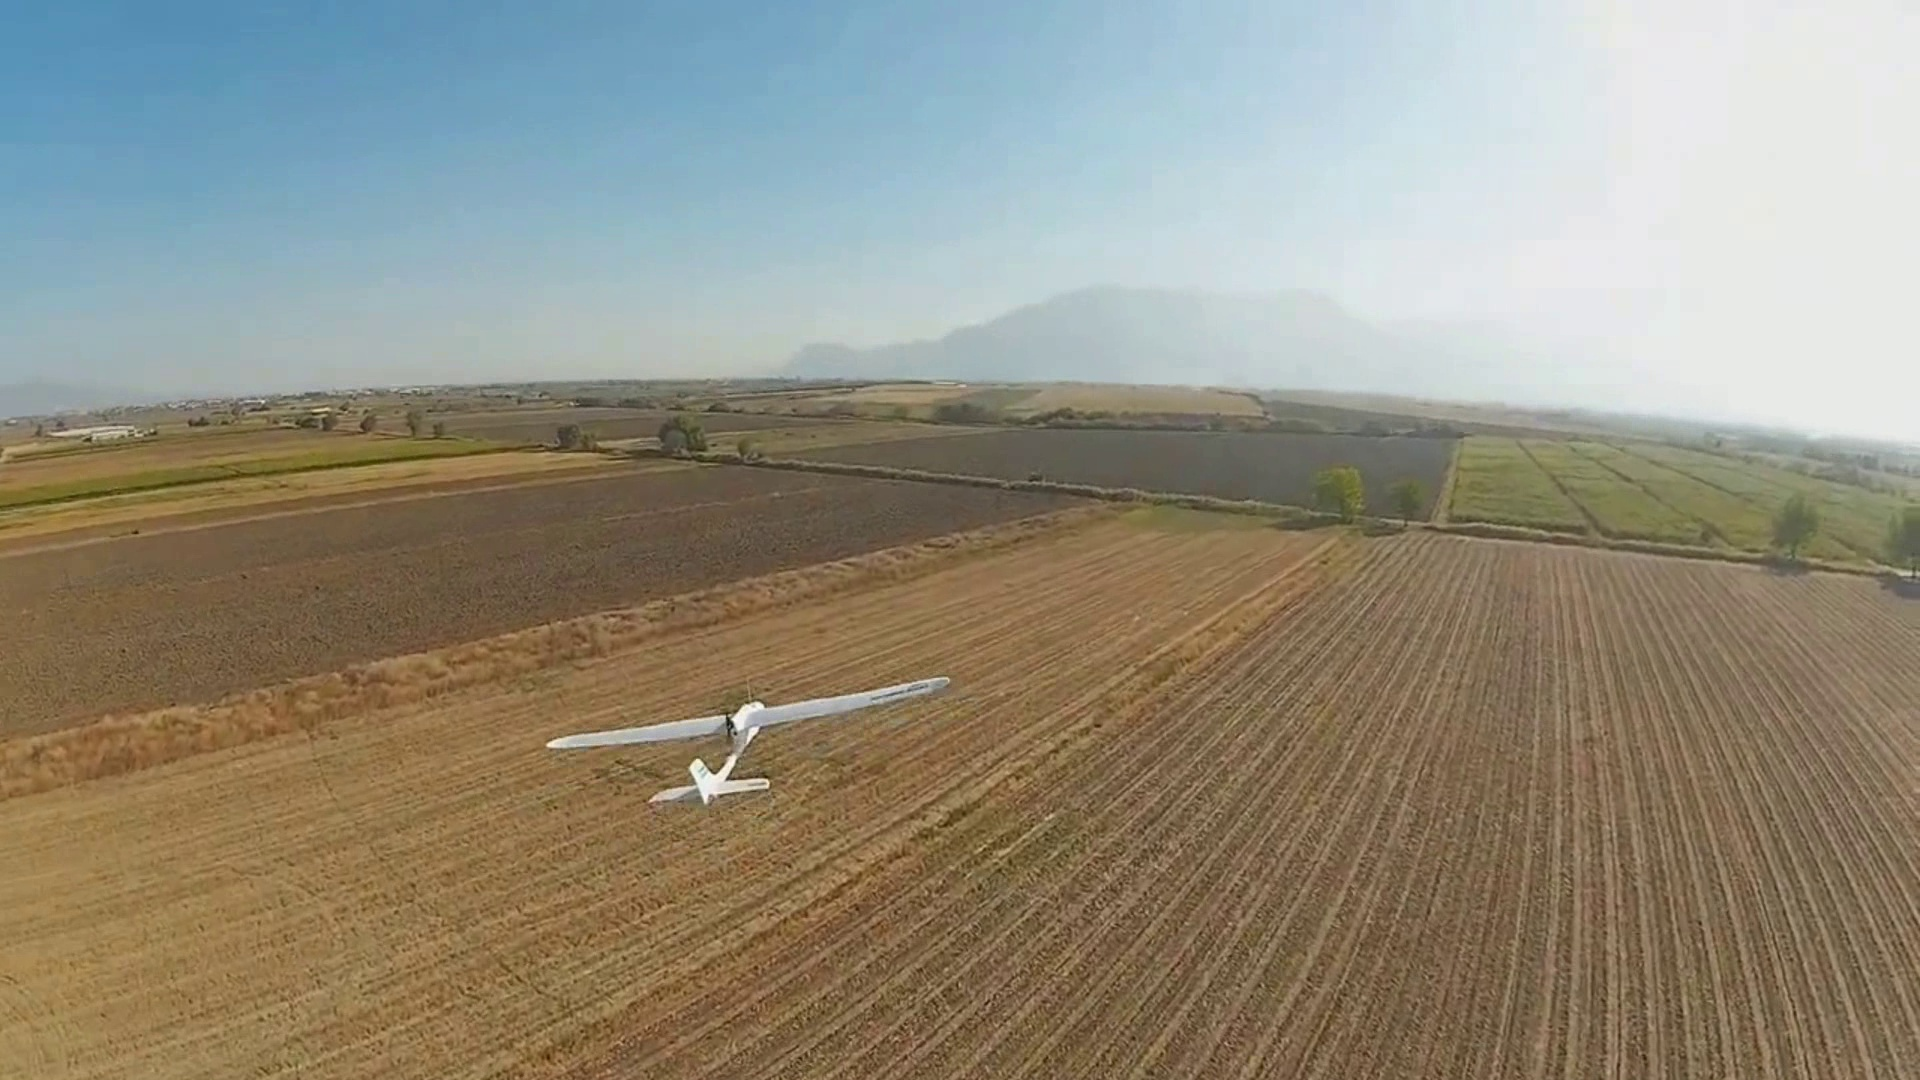airplane: (545, 677, 954, 810)
